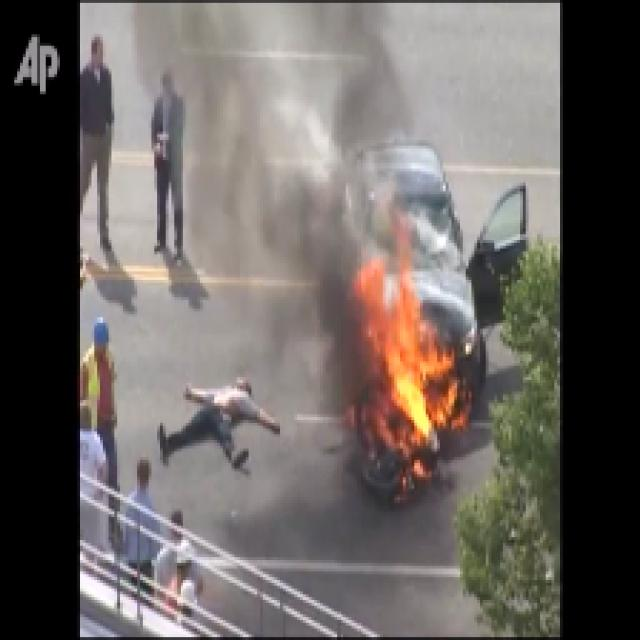fire: (362, 307, 453, 440)
smoke: (241, 67, 367, 294)
